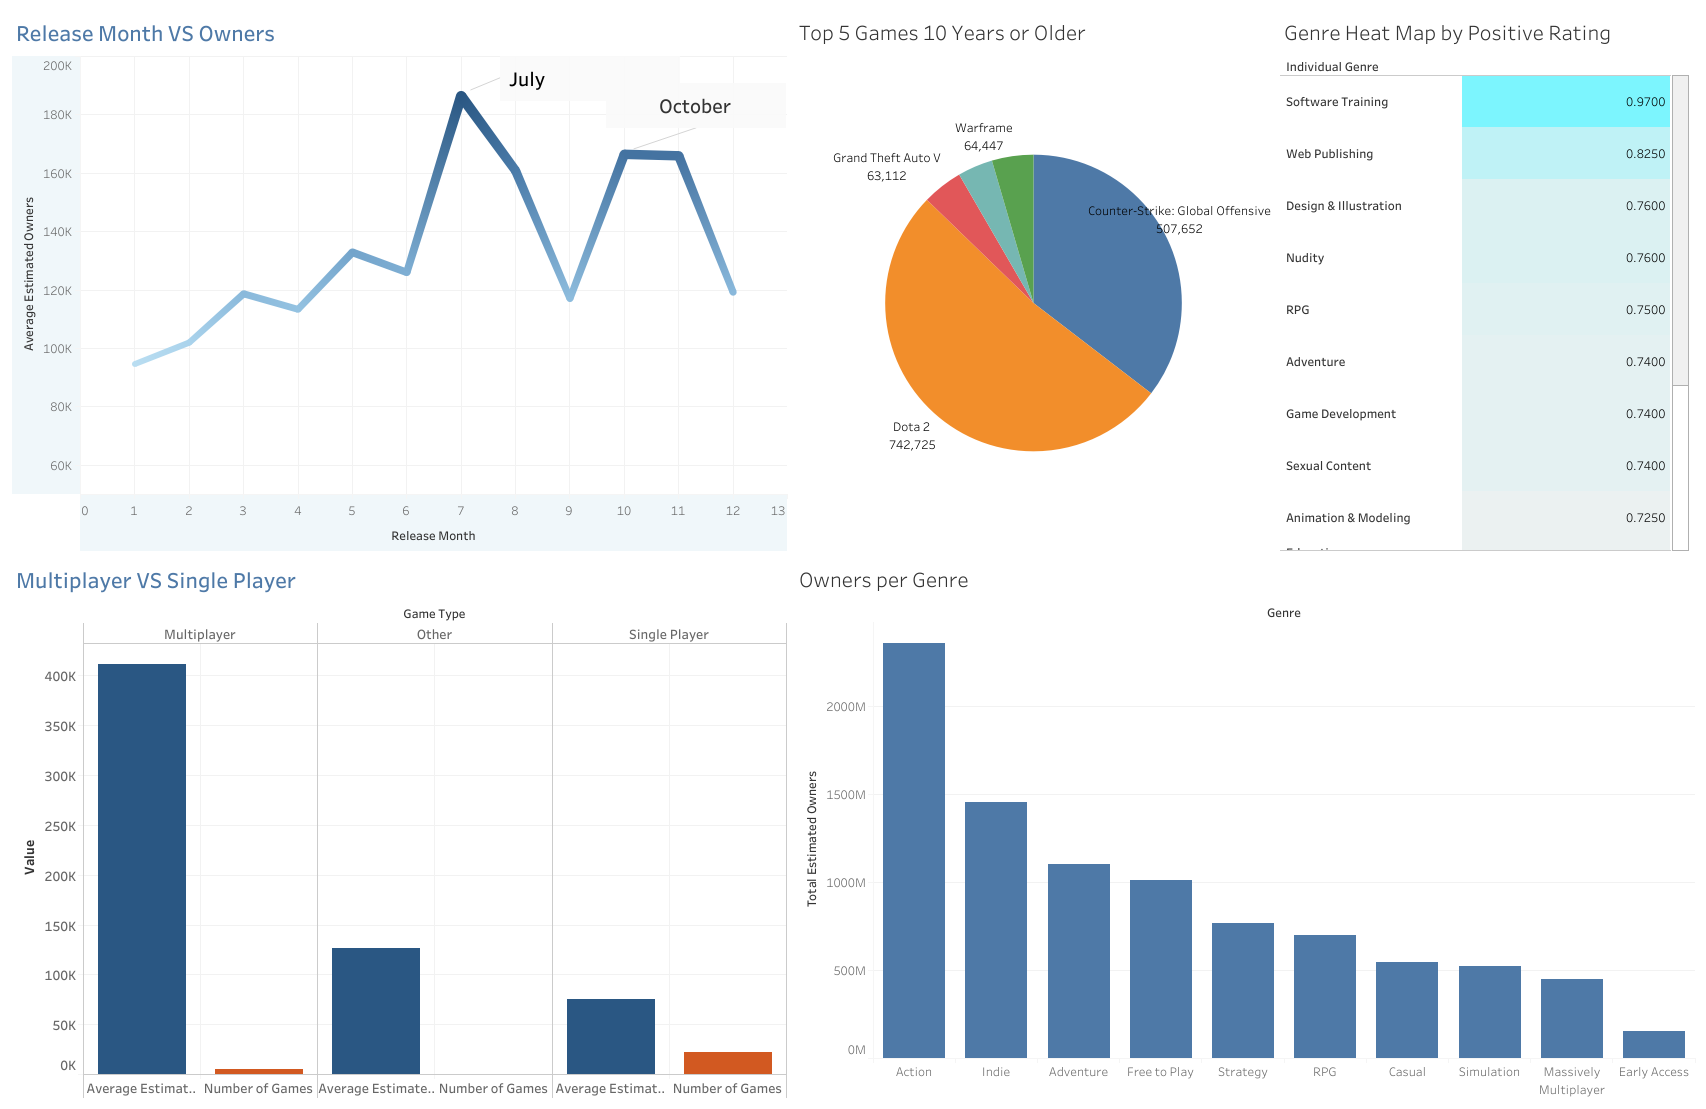

What the dashboard file says about the page in this screenshot:
{"tool":"tableau","page":{"name":"Steam Store Dash Board","canvas":[1600,900],"ordinal":0},"visuals":[{"type":"worksheet","title":"Release Month vs Owners","mark":"Automatic","rows":["avg_estimated_owners"],"cols":["release_month"],"box":[8,8,792,442]},{"type":"worksheet","title":"Genre Heat Map by Positive Rating","mark":"Square","rows":["individual_genre"],"box":[800,8,396,442]},{"type":"worksheet","title":"Owners per Genre","mark":"Bar","rows":["total_estimated_owners"],"cols":["genre"],"box":[1196,8,396,442]},{"type":"worksheet","title":"Single Player Vs Multiplayer","mark":"Bar","cols":["game_type"],"box":[8,450,792,442]},{"type":"worksheet","title":"Top 5 Games 10 Years or Older","mark":"Pie","box":[800,450,792,442]}]}

Visuals, with their boxes on the page's 1600x900 design canvas (x1, y1, x2, y2). These are canvas units, not pixel positions in the 1706x1109 screenshot, which may show the page scaled, cropped or inside an application window:
"Release Month vs Owners" worksheet: box=[8, 8, 800, 450]
"Genre Heat Map by Positive Rating" worksheet (Square marks): box=[800, 8, 1196, 450]
"Owners per Genre" worksheet (Bar marks): box=[1196, 8, 1592, 450]
"Single Player Vs Multiplayer" worksheet (Bar marks): box=[8, 450, 800, 892]
"Top 5 Games 10 Years or Older" worksheet (Pie marks): box=[800, 450, 1592, 892]
